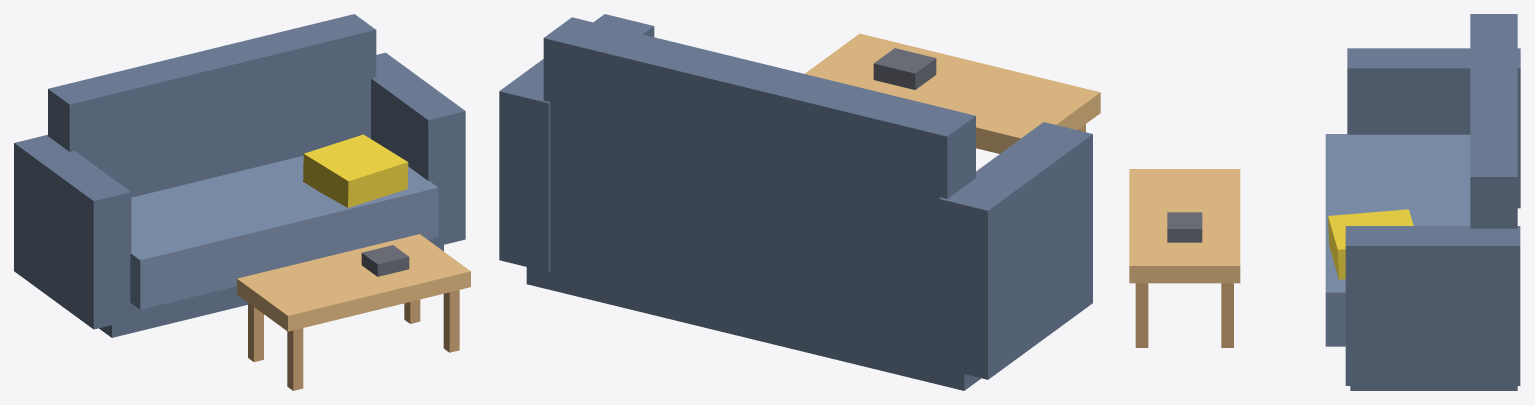
The model's file is 10_coffee_table_and_sofa.glb.
The picture shows the model from 3 angles, left to right: view 1: azimuth 30°, elevation 25°; view 2: azimuth 150°, elevation 25°; view 3: azimuth 270°, elevation 25°; orthographic projection. The views are drawn at different scales.
Visible parts, largest first — view 1: part_3, part_2, part_4, part_1.001, part_5, part_6, part_1, part_6.001, part_2.001, part_4.001, part_3.001; view 2: part_3, part_4, part_1, part_1.001, part_5, part_6.001; view 3: part_5, part_2, part_1.001, part_4, part_3, part_6, part_6.001, part_4.001, part_5.001, part_1.
Boxes of the visible parts, x1,y1,x2,y2 form: part_3: (48, 14, 376, 197); part_2: (130, 155, 438, 309); part_4: (14, 134, 131, 329); part_1.001: (237, 234, 470, 331); part_5: (371, 52, 465, 246); part_6: (303, 134, 408, 207); part_1: (99, 245, 443, 337); part_6.001: (361, 245, 409, 276); part_2.001: (287, 328, 303, 390); part_4.001: (443, 290, 459, 352); part_3.001: (248, 303, 263, 361); part_3: (543, 17, 975, 321); part_4: (938, 122, 1092, 379); part_1: (526, 227, 980, 390); part_1.001: (805, 33, 1100, 153); part_5: (499, 14, 654, 272); part_6.001: (873, 48, 936, 89); part_5: (1345, 226, 1520, 385); part_2: (1325, 134, 1470, 346); part_1.001: (1129, 169, 1240, 283); part_4: (1347, 48, 1520, 208); part_3: (1470, 14, 1517, 228); part_6: (1328, 209, 1413, 279); part_6.001: (1167, 212, 1202, 242); part_4.001: (1135, 283, 1148, 347); part_5.001: (1221, 283, 1233, 347); part_1: (1350, 386, 1517, 390).
Size of the model in its own units: 2.94 by 1.45 by 2.47.
